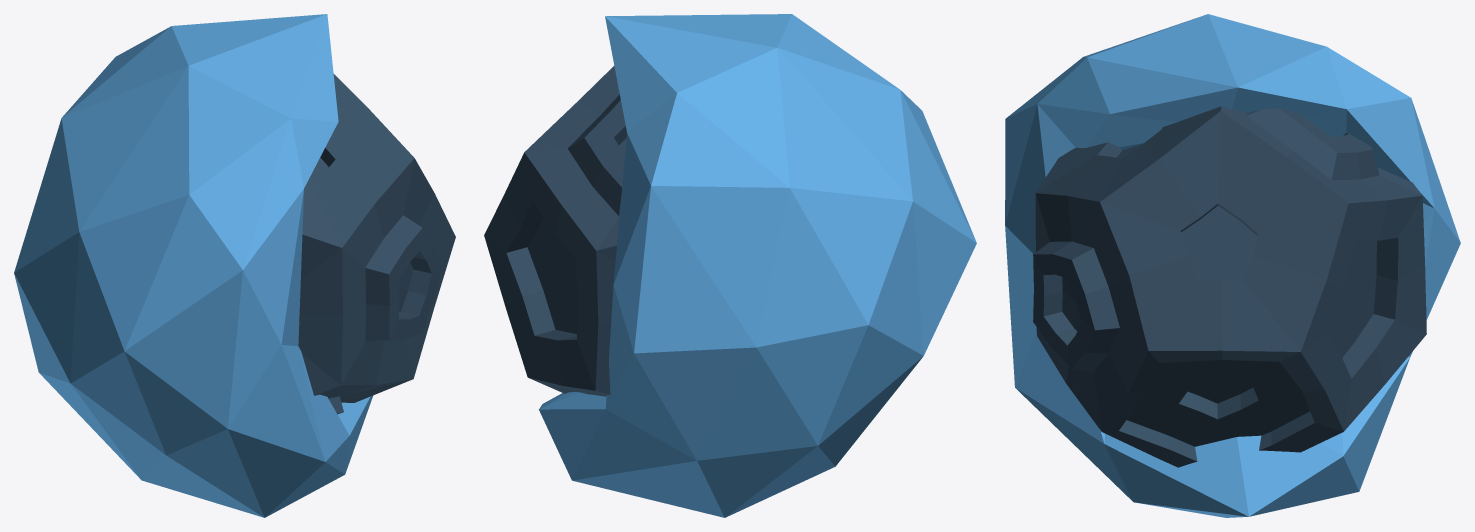
Rendered from moon.fbx.
The picture shows the model from 3 angles, left to right: view 1: azimuth 30°, elevation 25°; view 2: azimuth 150°, elevation 25°; view 3: azimuth 270°, elevation 25°; orthographic projection. The views are drawn at different scales.
Parts seen in each view (by area): view 1: pPlatonic22, pPlatonic21; view 2: pPlatonic22, pPlatonic21; view 3: pPlatonic21, pPlatonic22.
Boxes of the visible parts, left/top/right/bottom form: pPlatonic22: left=14, top=14, right=373, bottom=517; pPlatonic21: left=298, top=74, right=455, bottom=414; pPlatonic22: left=539, top=14, right=976, bottom=517; pPlatonic21: left=484, top=66, right=626, bottom=396; pPlatonic21: left=1033, top=106, right=1426, bottom=467; pPlatonic22: left=1005, top=14, right=1460, bottom=517.
Size of the model in its own units: 16.49 by 18.8 by 16.83.
